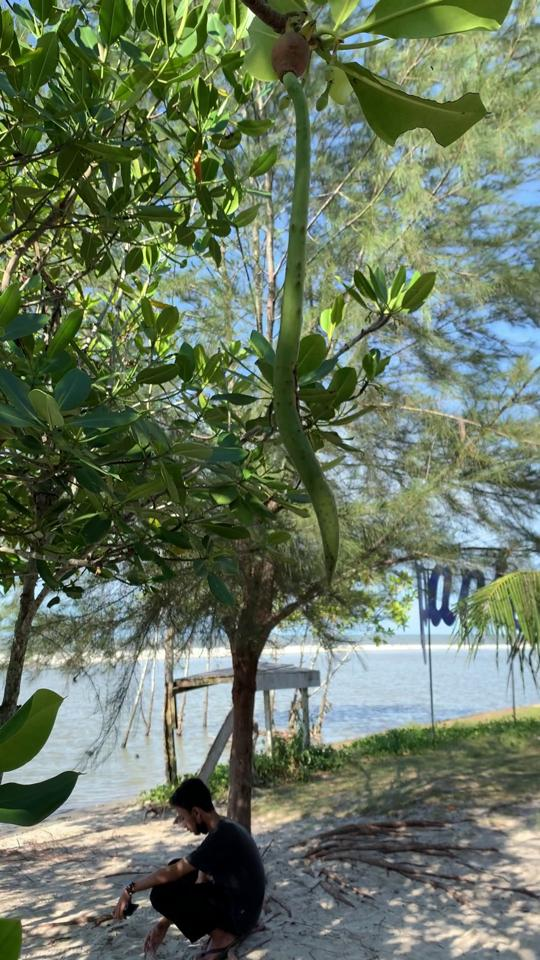setengah matang: (252, 19, 352, 596)
